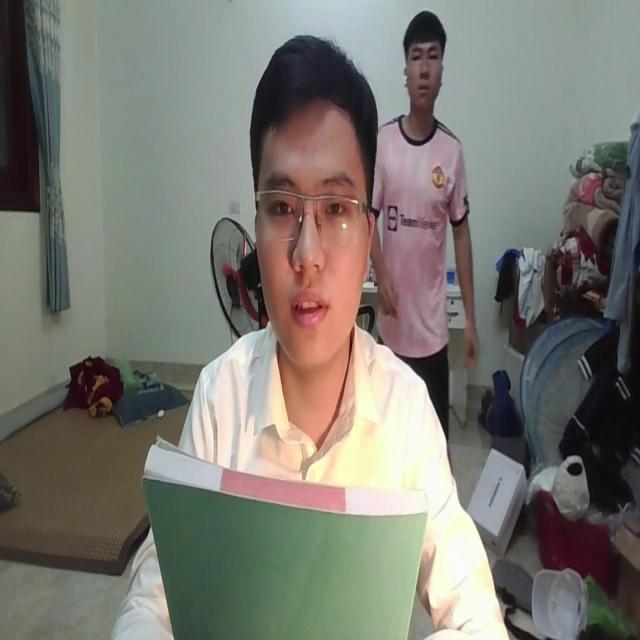book: (138, 423, 431, 640)
student: (173, 29, 448, 499)
